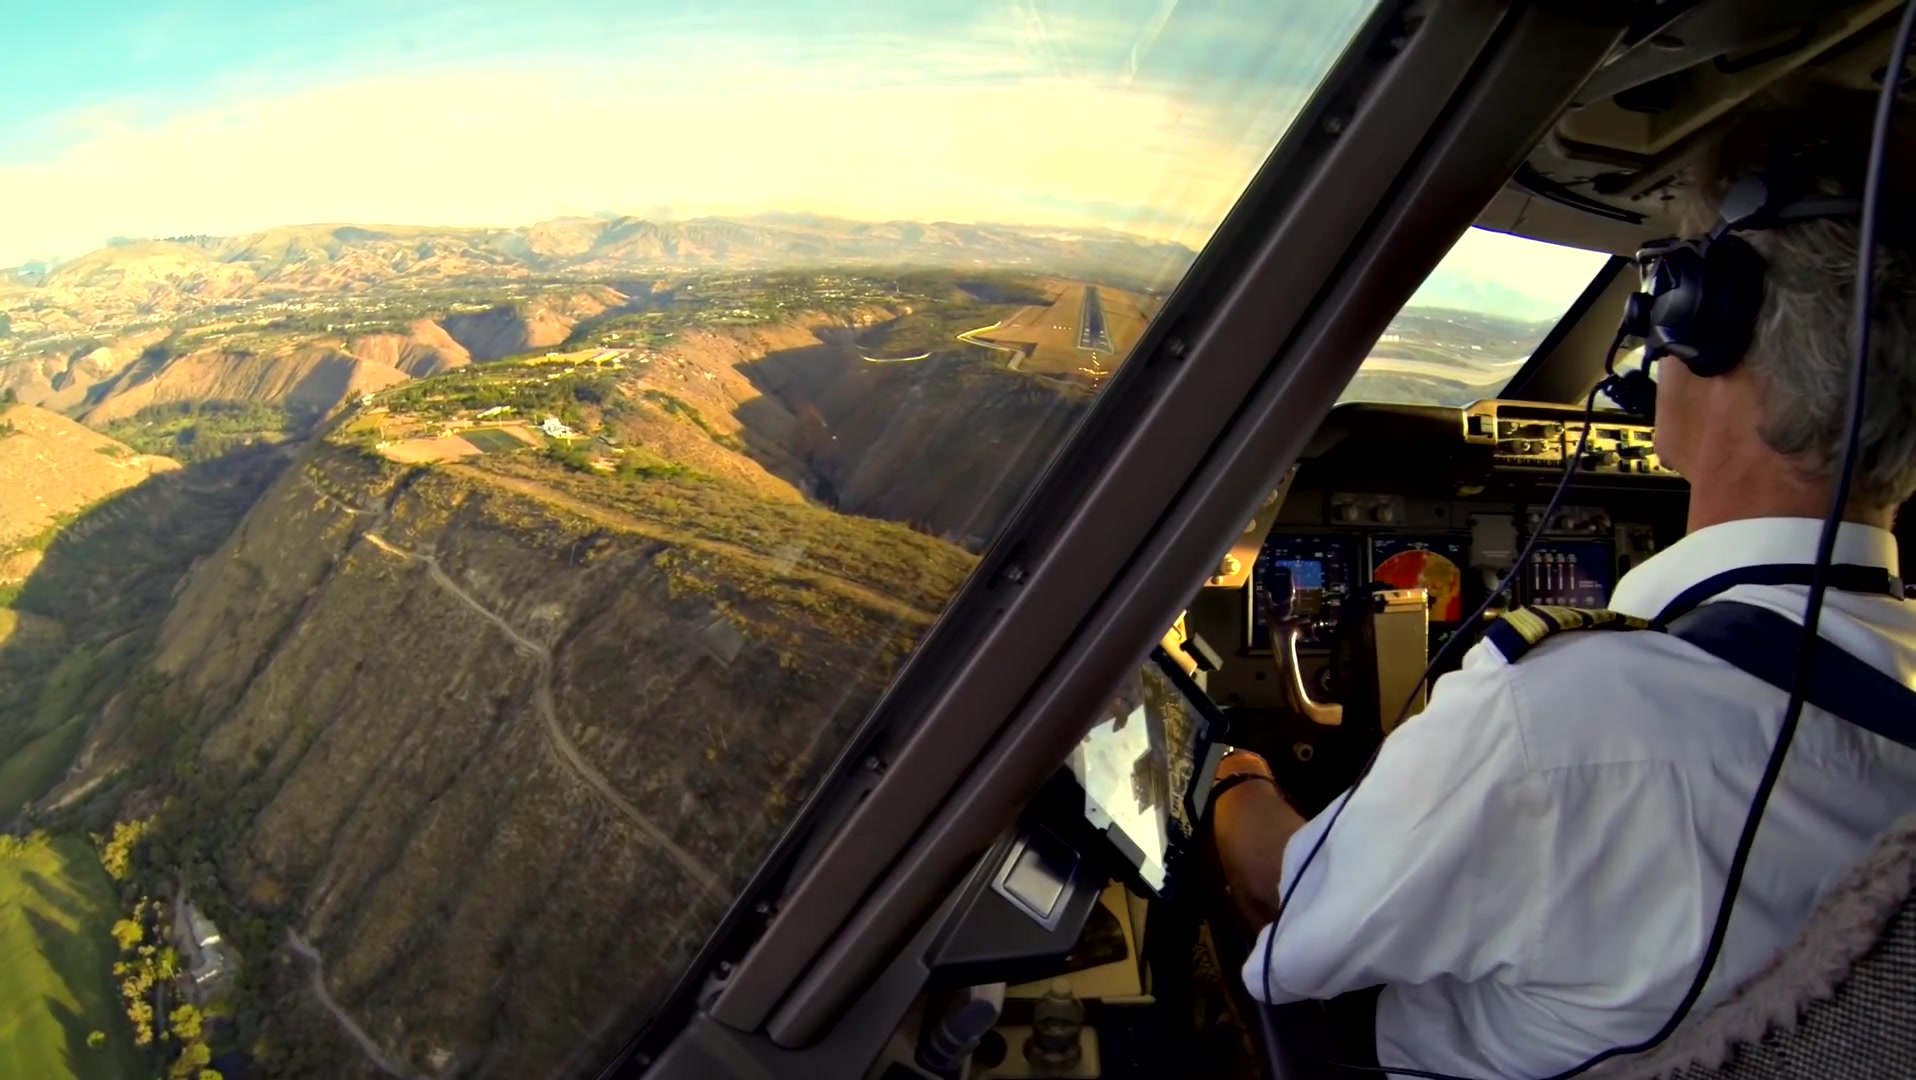runway: (1074, 285, 1115, 355)
